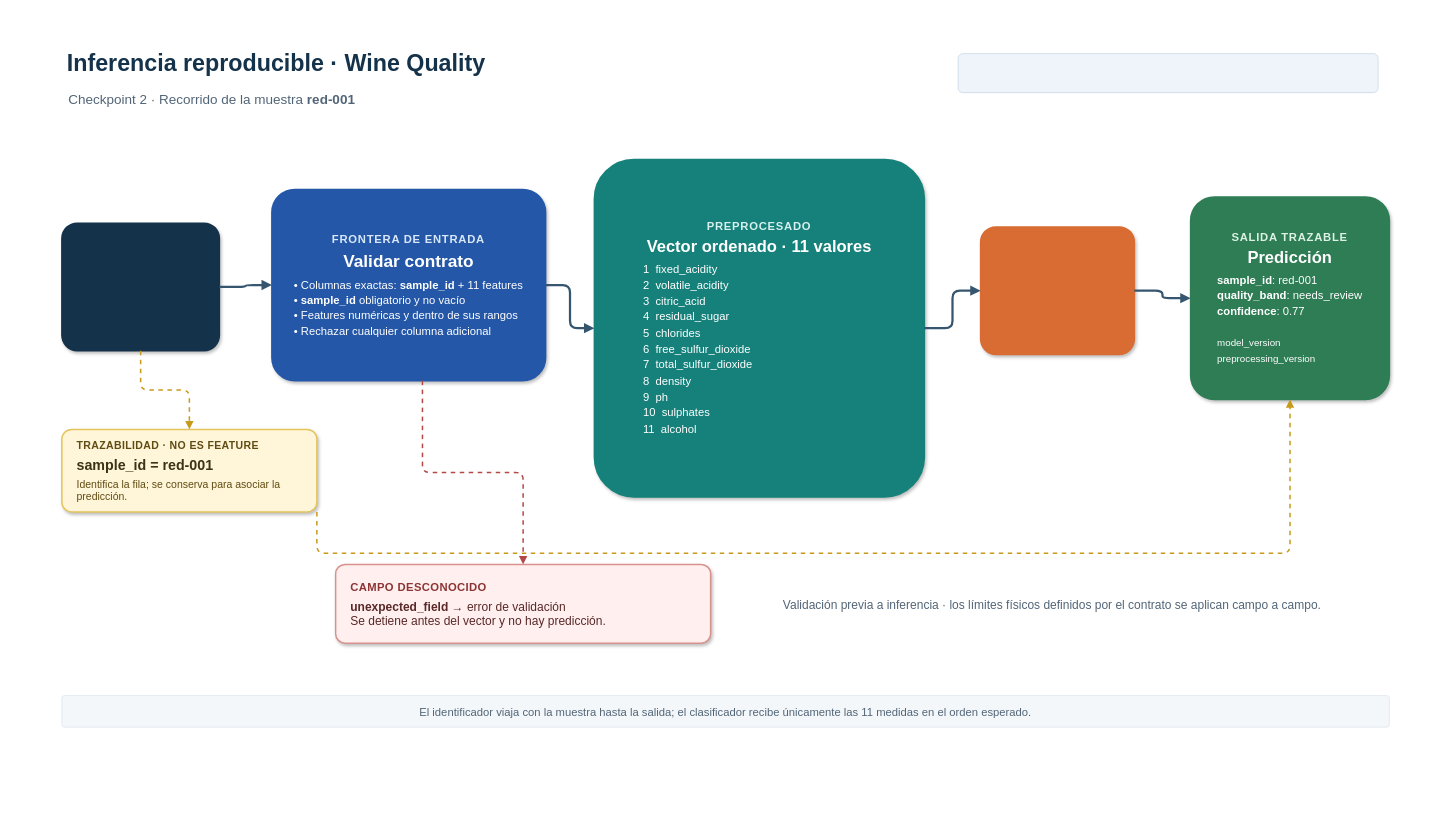
This 1451x813 diagram has some shape labels left out. Here are the shapes that lost their labels. From the top down, the centre of each, then its label:
(x=1167, y=73): CSV → contrato → vector ordenado → modelo → predicción
(x=141, y=287): ENTRADA CSV red-001 1 fila · 12 columnas
(x=1057, y=291): INFERENCIA Modelo Clasificador calidad del vino
